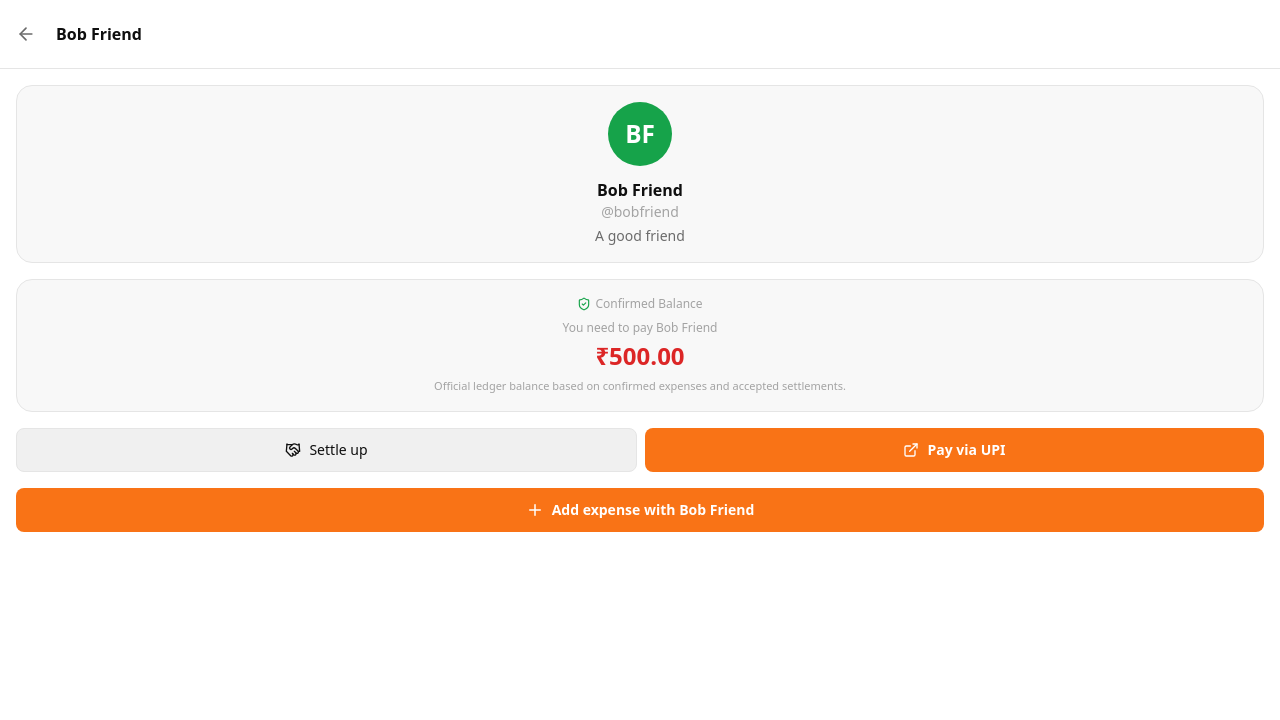
Test: FriendDetailPage Settlement & Balance Breakdown › Requirement D1 & D2: shows 2-step settlement confirmation and reported payment notice
The width and height of the screenshot is (1280, 720).
Click the button "Settle up" at (326, 450), box top-left (16, 428), bottom-right (637, 472)
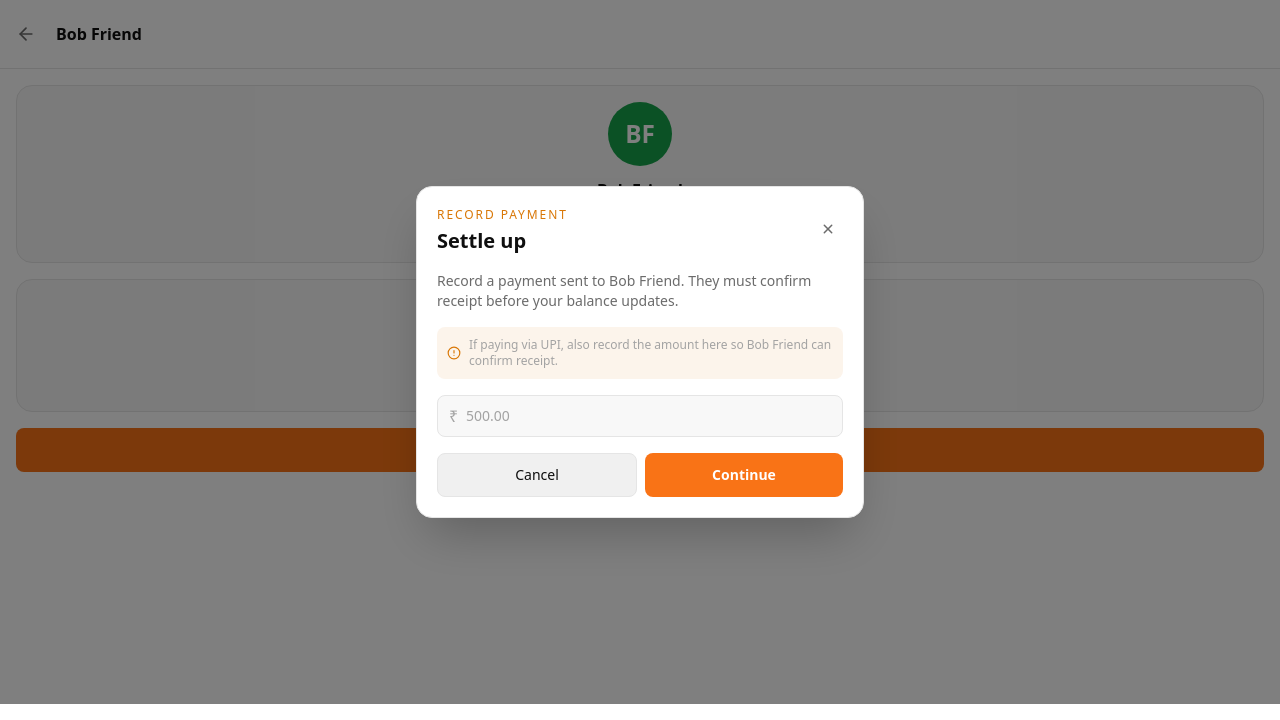
Expected: the number field named "Settlement amount in rupees" is shown
Type "500" into the number field named "Settlement amount in rupees" at (640, 416), box top-left (437, 395), bottom-right (843, 437)
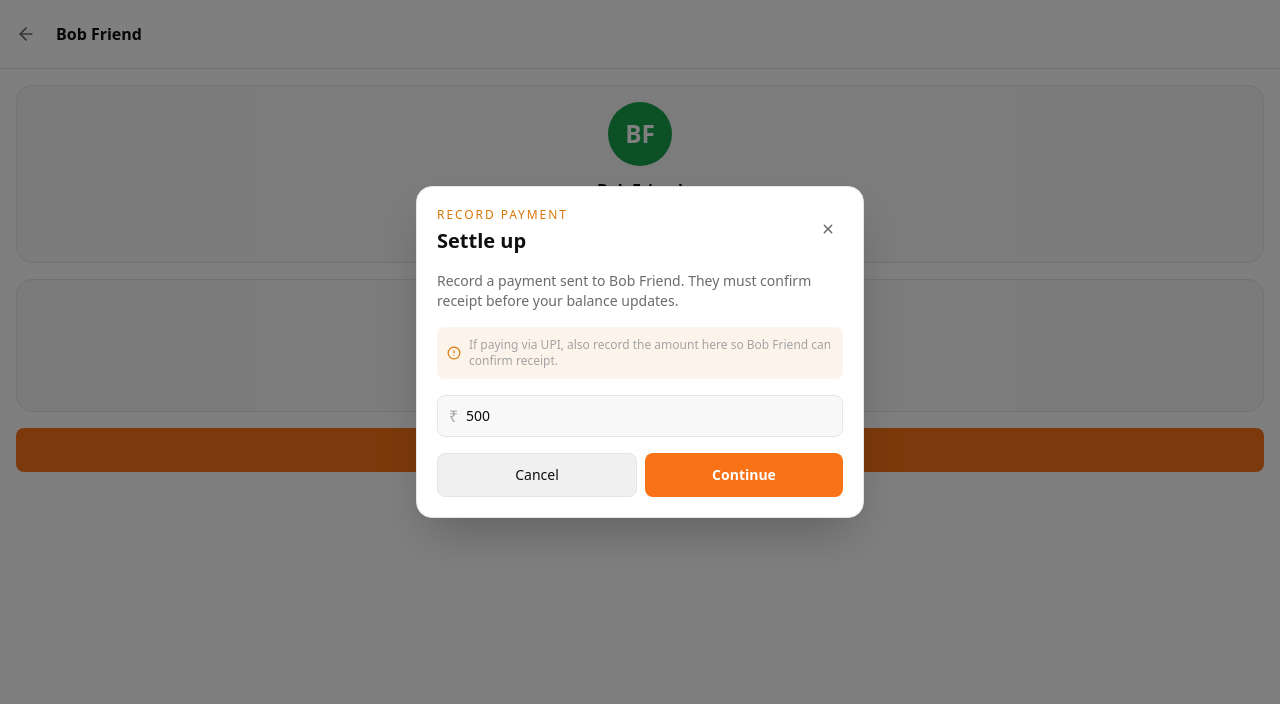
Click the button "Continue" at (744, 475), box top-left (645, 453), bottom-right (843, 497)
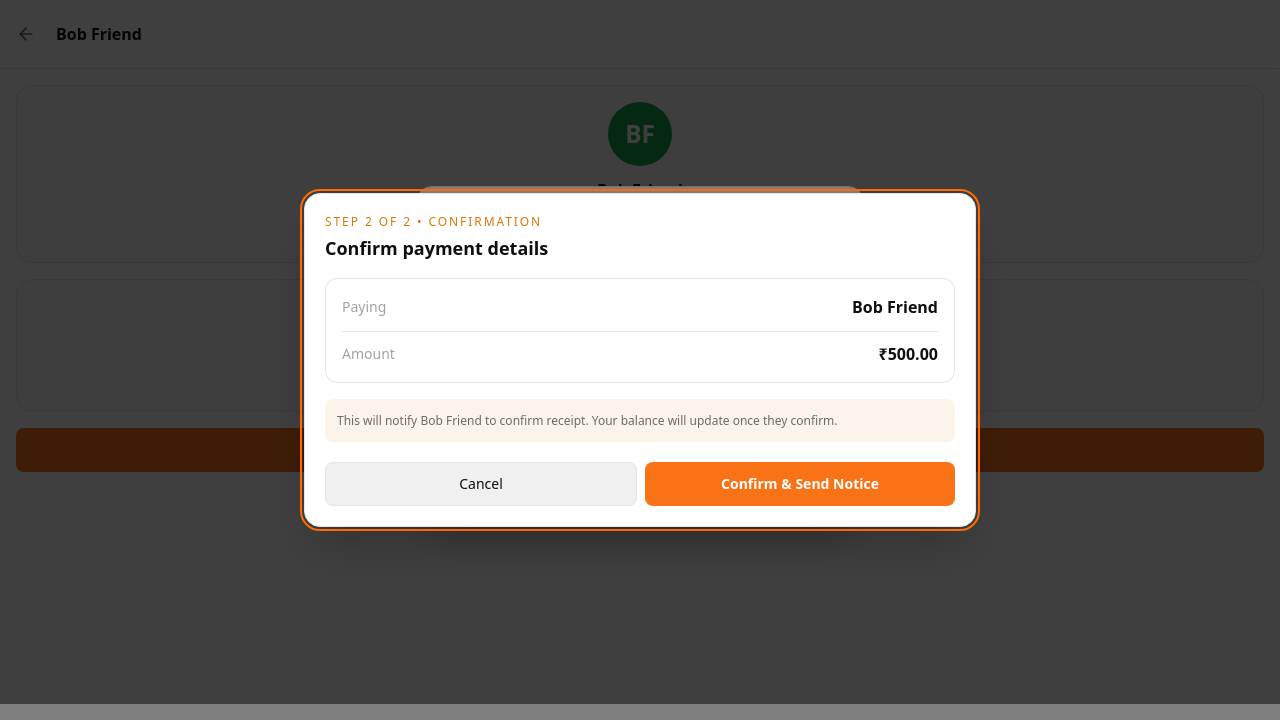
Expected: the heading "Confirm payment details" is shown, top-left (325, 236), bottom-right (548, 260)
Expected: the text "This will notify Bob Friend to confirm receipt. Your balance will update once they confirm." is shown, top-left (337, 412), bottom-right (838, 429)
Click the button "Confirm & Send Notice" at (800, 484), box top-left (645, 462), bottom-right (955, 506)
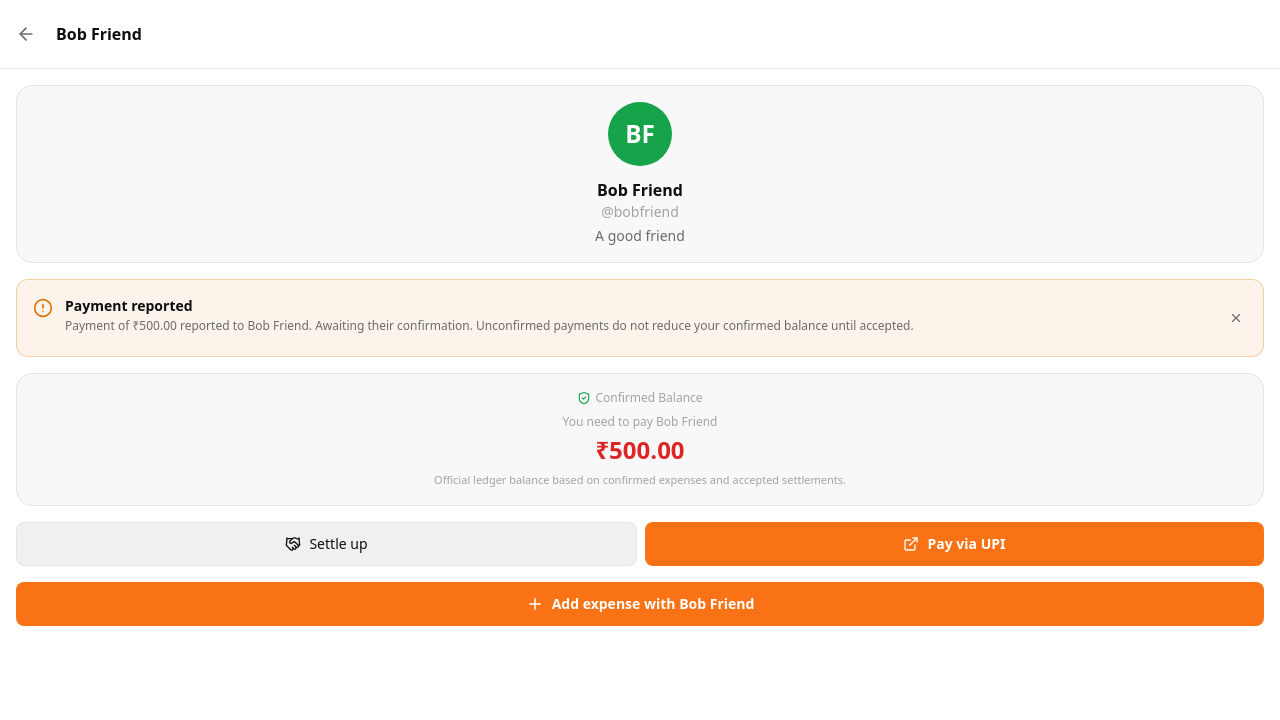
Expected: the text "Payment reported" is shown, top-left (65, 296), bottom-right (193, 315)
Expected: the text "Payment of ₹500.00 reported to Bob Friend. Awaiting their confirmation." is shown, top-left (65, 317), bottom-right (914, 334)
